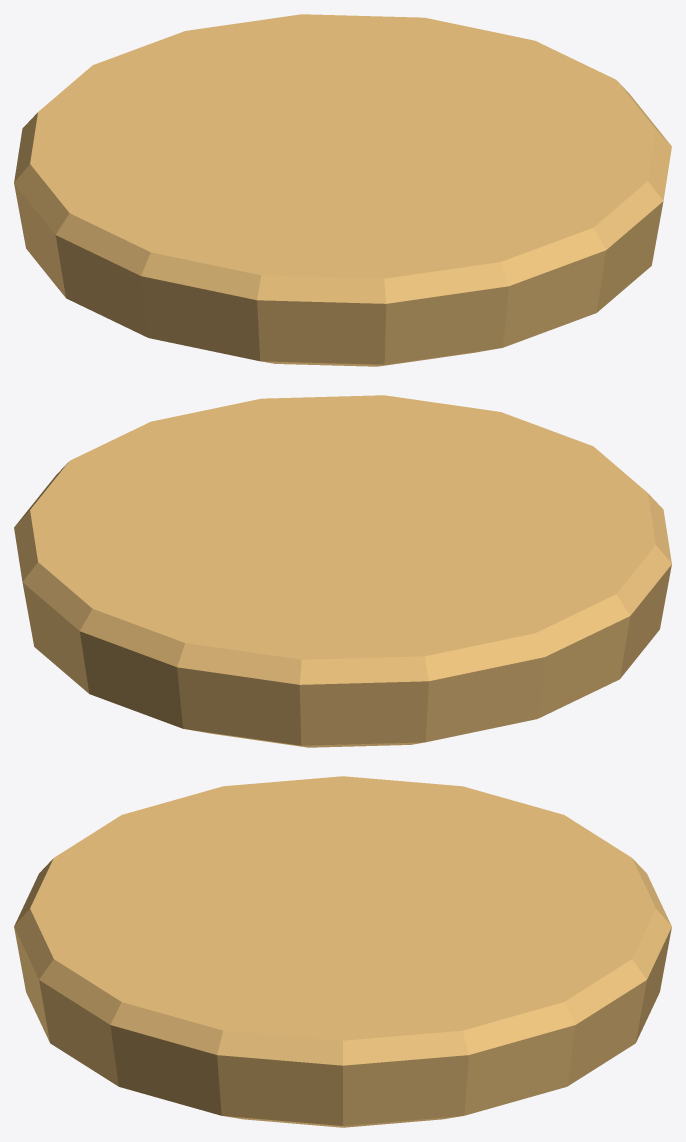
Rendered from Bun_Bottom.glb.
The picture shows the model from 3 angles, top to bottom: view 1: azimuth 30°, elevation 25°; view 2: azimuth 150°, elevation 25°; view 3: azimuth 270°, elevation 25°; orthographic projection.
Visible parts, largest first — view 1: Bun_Bottom; view 2: Bun_Bottom; view 3: Bun_Bottom.
Part boxes in pixels (x1,y1,x2,y2): Bun_Bottom: (14,14,671,366); Bun_Bottom: (14,395,671,747); Bun_Bottom: (14,776,671,1127).
Size of the model in its own units: 0.164 by 0.03 by 0.164.
